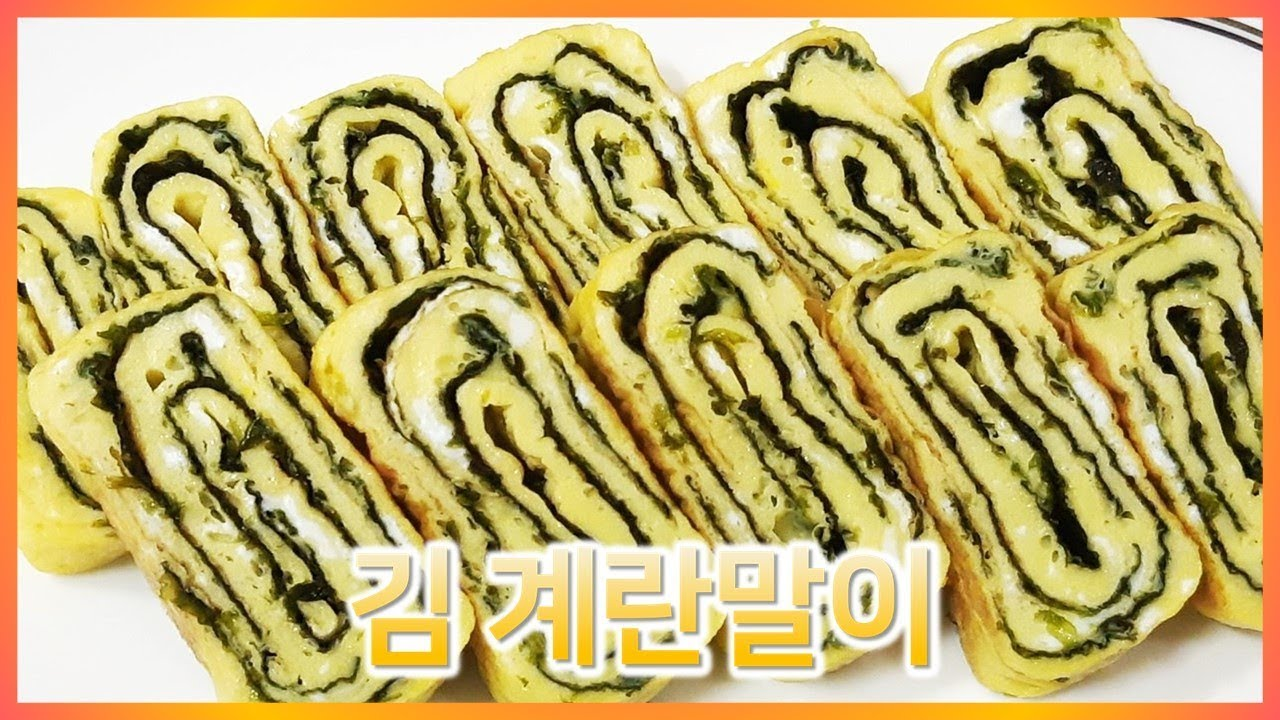gyelanmal-i: (26, 20, 1260, 551)
